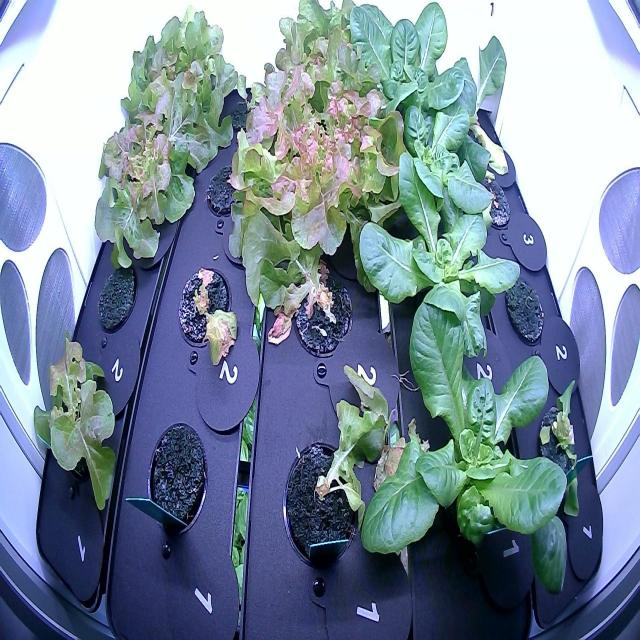pod: (144, 412, 209, 543), (93, 255, 143, 340), (499, 270, 549, 352)
young: (357, 295, 579, 606), (352, 149, 532, 373), (339, 0, 483, 162), (350, 91, 497, 236)
